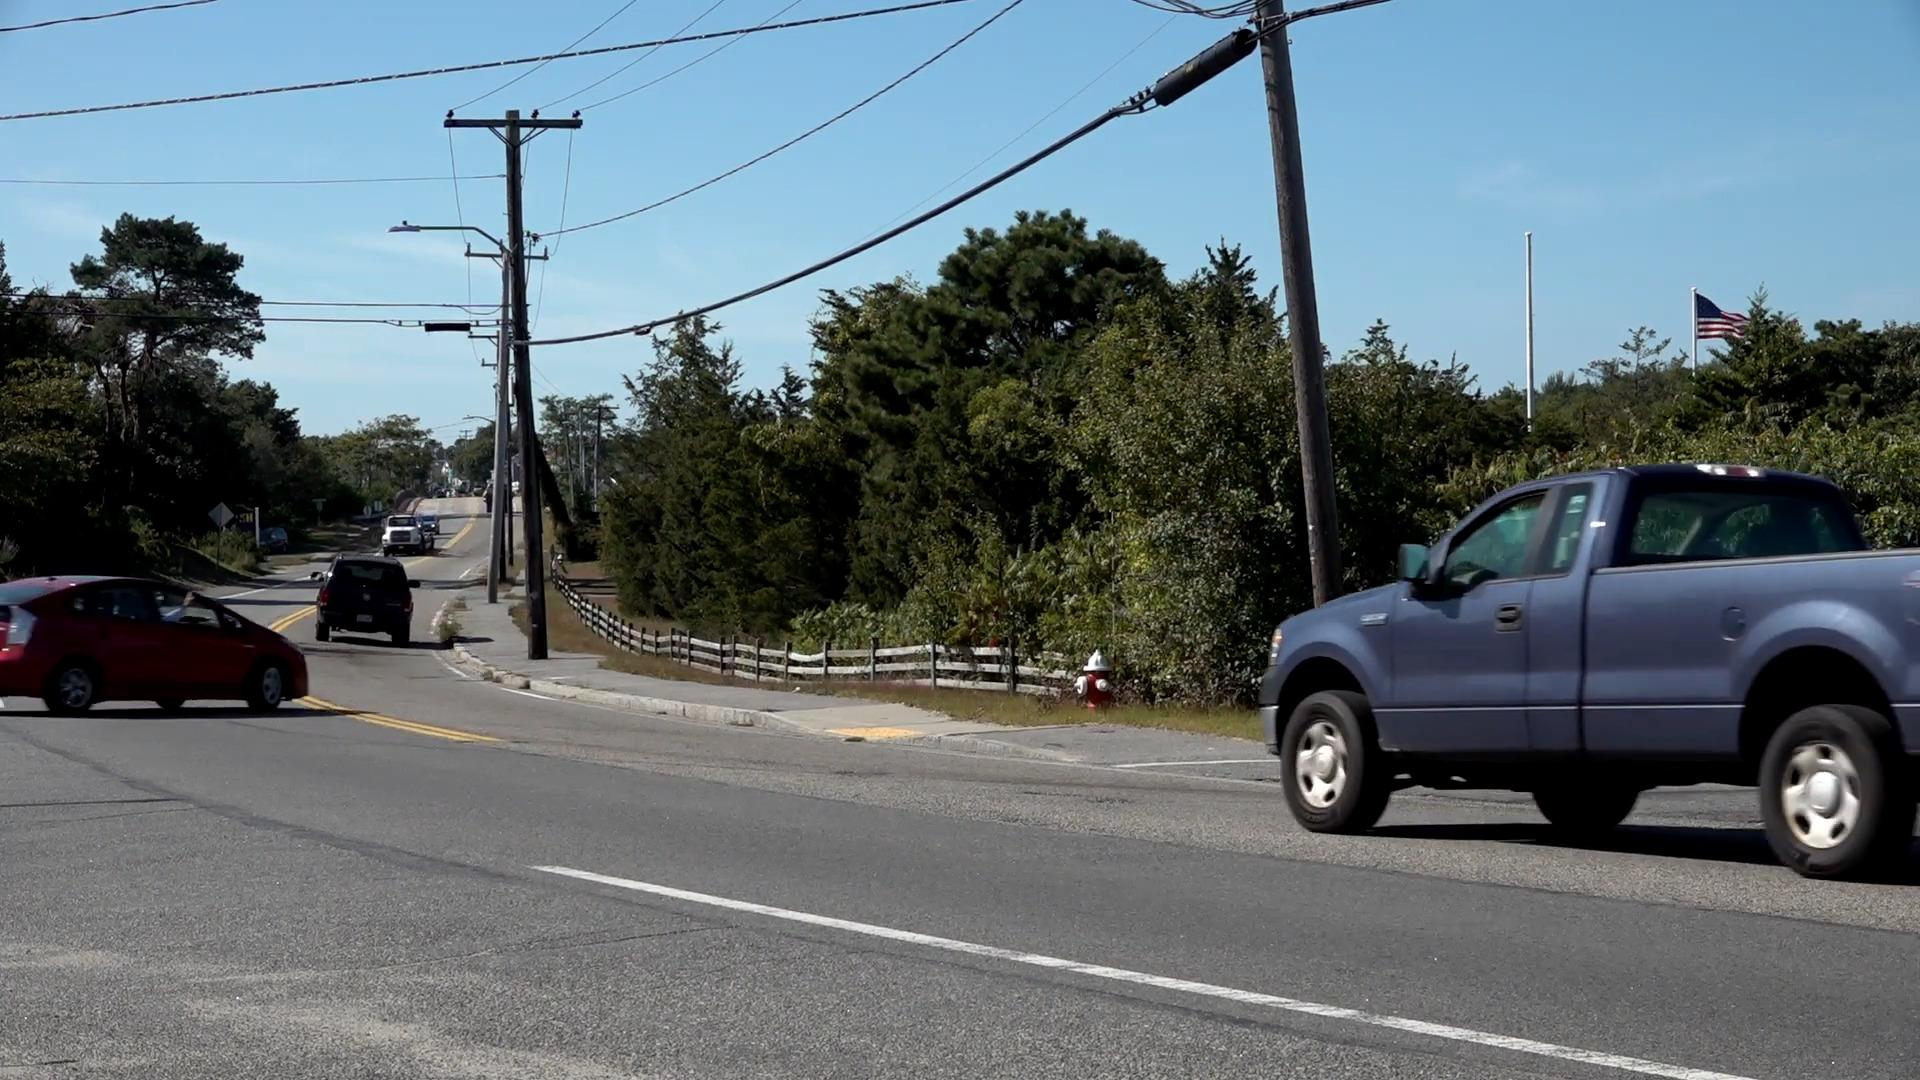pickup: (1258, 454, 1920, 870)
sedans: (0, 575, 311, 725)
suv: (313, 553, 423, 658)
